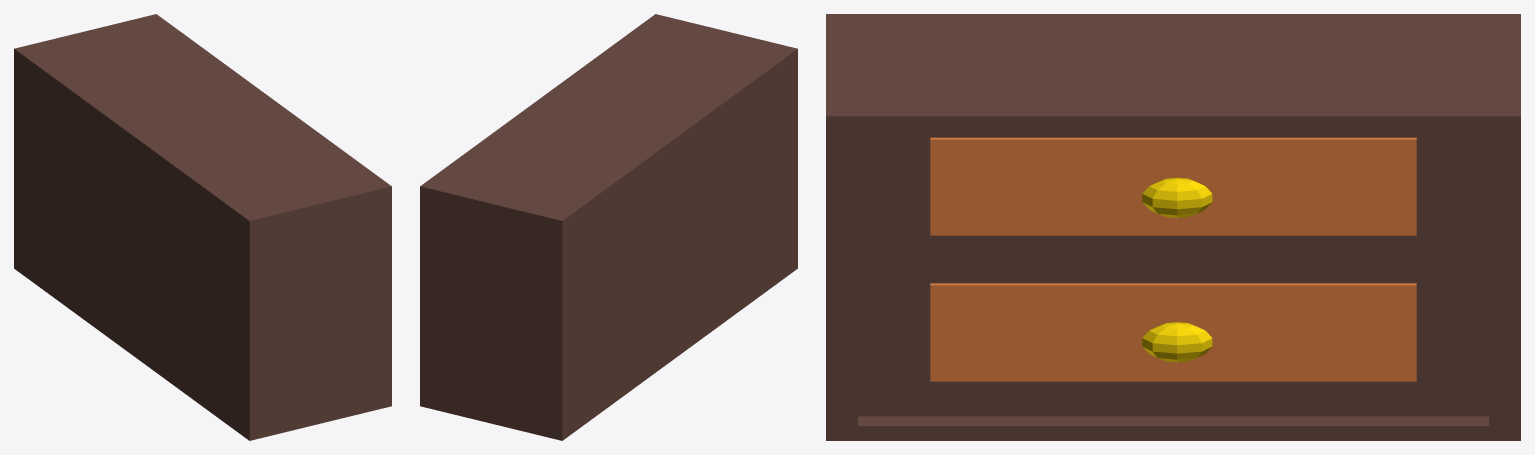
File: cabinet.fbx
3 renders of one model, left to right at view 1: azimuth 30°, elevation 25°; view 2: azimuth 150°, elevation 25°; view 3: azimuth 270°, elevation 25°, orthographic. The views are drawn at different scales.
Parts seen in each view (by area): view 1: cabinet; view 2: cabinet; view 3: cabinet, cabdoor1, cabdoor2, handle2, handle2.001.
Boxes of the visible parts, box(x1,y1,x2,y2) form: cabinet: box(14, 14, 391, 440); cabinet: box(420, 14, 797, 440); cabinet: box(826, 14, 1520, 440); cabdoor1: box(930, 137, 1416, 235); cabdoor2: box(930, 283, 1416, 381); handle2: box(1142, 177, 1212, 217); handle2.001: box(1142, 322, 1212, 362).
Size of the model in its own units: 272 by 372 by 723.
